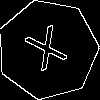X: (23, 24, 75, 81)
